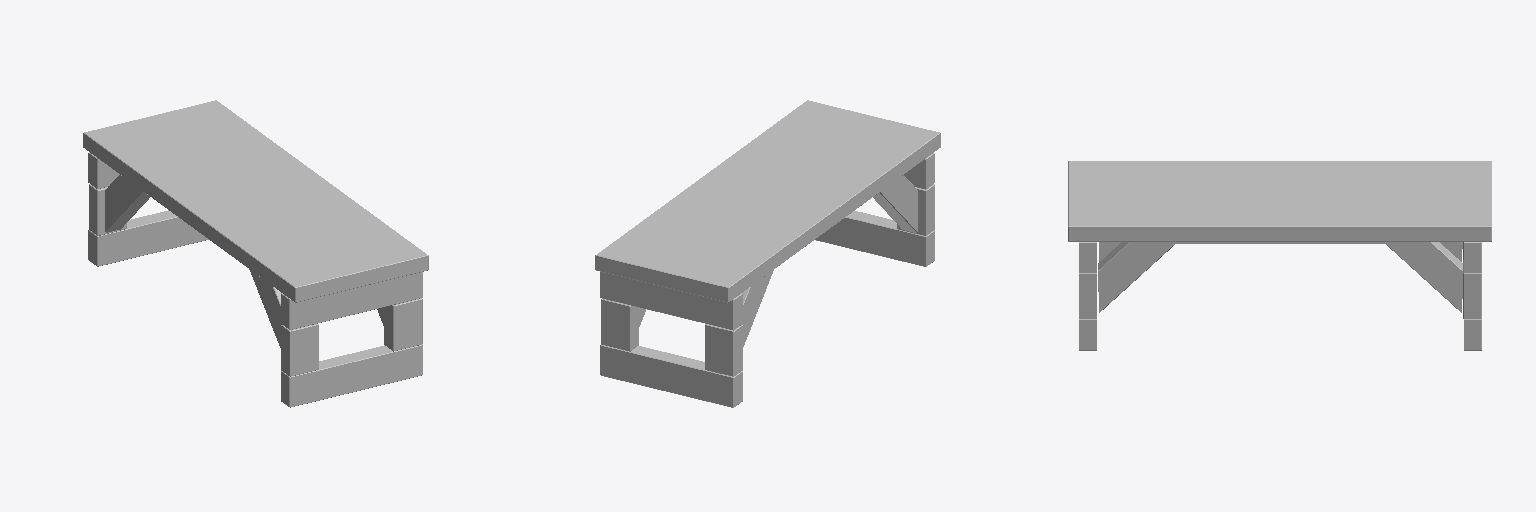
File: StonesTable.obj
3 renders of one model, left to right at view 1: azimuth 30°, elevation 25°; view 2: azimuth 150°, elevation 25°; view 3: azimuth 270°, elevation 25°, orthographic.
Visible parts, largest first — view 1: Tisch; view 2: Tisch; view 3: Tisch.
Part boxes in pixels (x1,y1,x2,y2): Tisch: (83,100,428,407); Tisch: (595,100,940,407); Tisch: (1068,161,1491,350).
Bounding box in the file's own units: 0.507 × 0.451 × 1.39.